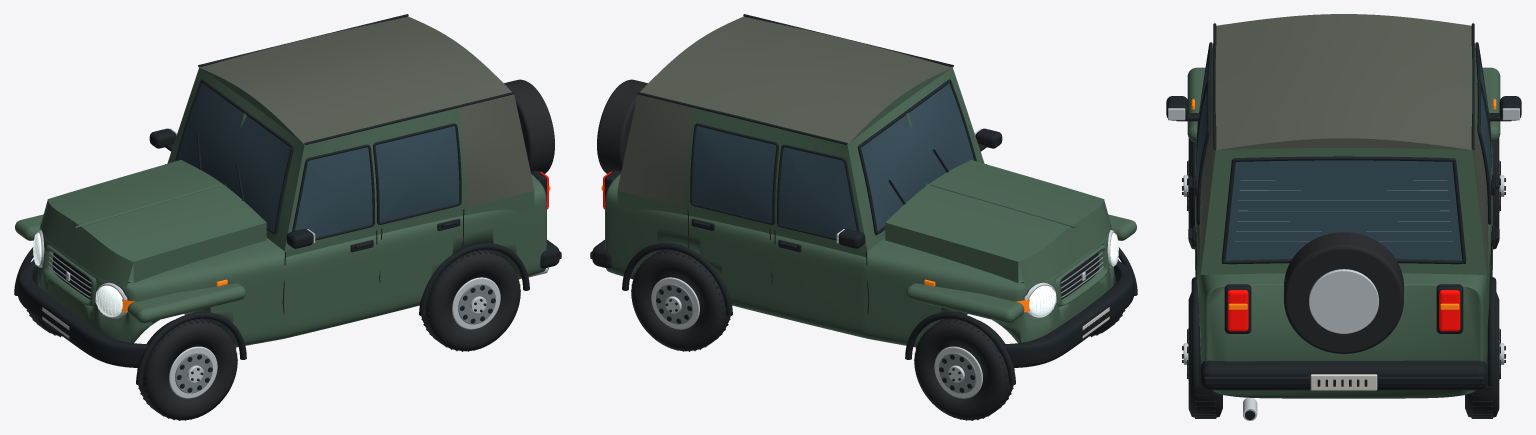
File: uaz.glb
The picture shows the model from 3 angles, left to right: view 1: azimuth 30°, elevation 25°; view 2: azimuth 150°, elevation 25°; view 3: azimuth 270°, elevation 25°; orthographic projection. The views are drawn at different scales.
Parts seen in each view (by area): view 1: Body_Paint_uaz, Body_Canvas roof, Body_Curved smoked glass.011, Body_Black trim.011, Wheel_FR_Tyre.011, Wheel_RR_Tyre.011, StockBumpers_Black trim.011, StockFenders_Black trim.011, Body_Tyre.011, Wheel_FR_Machined aluminium.011, Wheel_RR_Machined aluminium.011, Body_Prismatic headlight glass.011 (+5 smaller); view 2: Body_Paint_uaz, Body_Canvas roof, Body_Curved smoked glass.011, Body_Black trim.011, Wheel_FL_Tyre.011, Wheel_RL_Tyre.011, StockBumpers_Black trim.011, StockFenders_Black trim.011, Body_Tyre.011, Wheel_FL_Machined aluminium.011, Wheel_RL_Machined aluminium.011, Body_Prismatic headlight glass.011 (+4 smaller); view 3: Body_Canvas roof, Body_Paint_uaz, Body_Curved smoked glass.011, Body_Tyre.011, Body_Black trim.011, StockBumpers_Black trim.011, Body_Machined aluminium.011, StockFenders_Black trim.011, Body_Red lens.011, Wheel_RR_Tyre.011, Wheel_RL_Tyre.011, Body_Brake steel.011 (+6 smaller).
Boxes of the visible parts, x1,y1,x2,y2 form: Body_Paint_uaz: [15, 67, 546, 347]; Body_Canvas roof: [199, 16, 534, 206]; Body_Curved smoked glass.011: [177, 83, 459, 237]; Body_Black trim.011: [45, 14, 548, 333]; Wheel_FR_Tyre.011: [137, 318, 237, 420]; Wheel_RR_Tyre.011: [421, 249, 520, 351]; StockBumpers_Black trim.011: [17, 240, 561, 367]; StockFenders_Black trim.011: [14, 243, 529, 385]; Body_Tyre.011: [504, 79, 554, 173]; Wheel_FR_Machined aluminium.011: [169, 346, 217, 398]; Wheel_RR_Machined aluminium.011: [452, 277, 500, 329]; Body_Prismatic headlight glass.011: [33, 232, 122, 316]; Body_Paint_uaz: [605, 67, 1136, 347]; Body_Canvas roof: [617, 16, 952, 206]; Body_Curved smoked glass.011: [692, 83, 973, 237]; Body_Black trim.011: [605, 14, 1107, 332]; Wheel_FL_Tyre.011: [914, 318, 1014, 420]; Wheel_RL_Tyre.011: [631, 249, 730, 351]; StockBumpers_Black trim.011: [590, 240, 1134, 367]; StockFenders_Black trim.011: [622, 243, 1137, 385]; Body_Tyre.011: [597, 79, 647, 173]; Wheel_FL_Machined aluminium.011: [934, 346, 982, 398]; Wheel_RL_Machined aluminium.011: [651, 277, 699, 329]; Body_Prismatic headlight glass.011: [1029, 232, 1118, 316]; Body_Canvas roof: [1199, 14, 1488, 274]; Body_Paint_uaz: [1187, 43, 1500, 398]; Body_Curved smoked glass.011: [1196, 59, 1491, 260]; Body_Tyre.011: [1284, 232, 1403, 353]; Body_Black trim.011: [1166, 23, 1521, 419]; StockBumpers_Black trim.011: [1200, 360, 1487, 390]; Body_Machined aluminium.011: [1168, 108, 1519, 420]; StockFenders_Black trim.011: [1191, 141, 1496, 386]; Body_Red lens.011: [1227, 290, 1460, 331]; Wheel_RR_Tyre.011: [1188, 292, 1222, 418]; Wheel_RL_Tyre.011: [1465, 292, 1499, 418]; Body_Brake steel.011: [1235, 180, 1452, 241].
Bounding box in the file's own units: 4.03 × 2.02 × 2.13.
